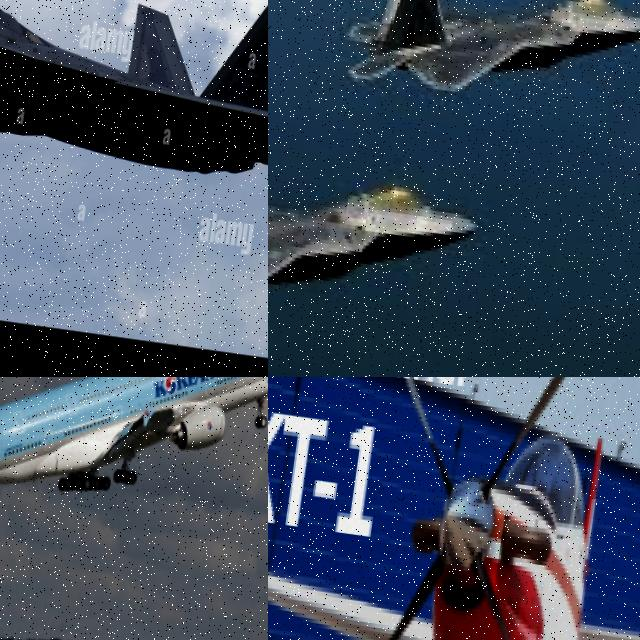A380: (0, 377, 268, 517)
F22: (268, 101, 486, 362), (0, 0, 268, 200), (340, 0, 640, 123)
KT-1: (268, 377, 640, 640)
